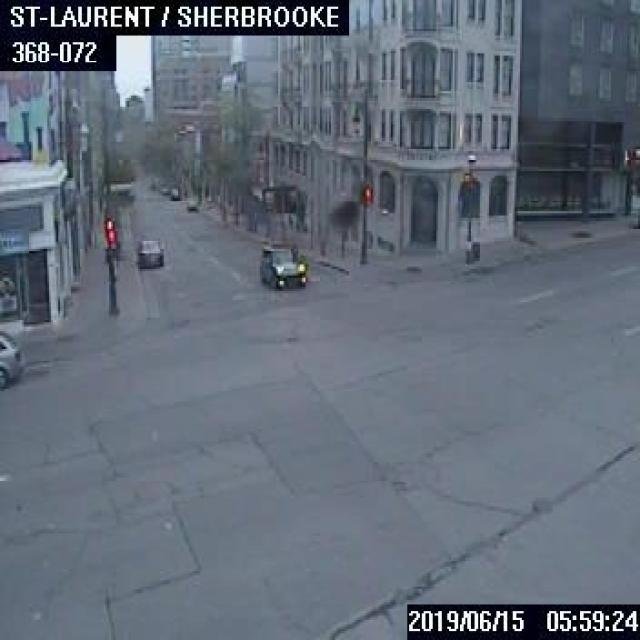vehicle: (256, 240, 306, 287), (0, 329, 25, 387), (134, 236, 162, 264), (184, 195, 196, 209), (169, 185, 180, 198)
